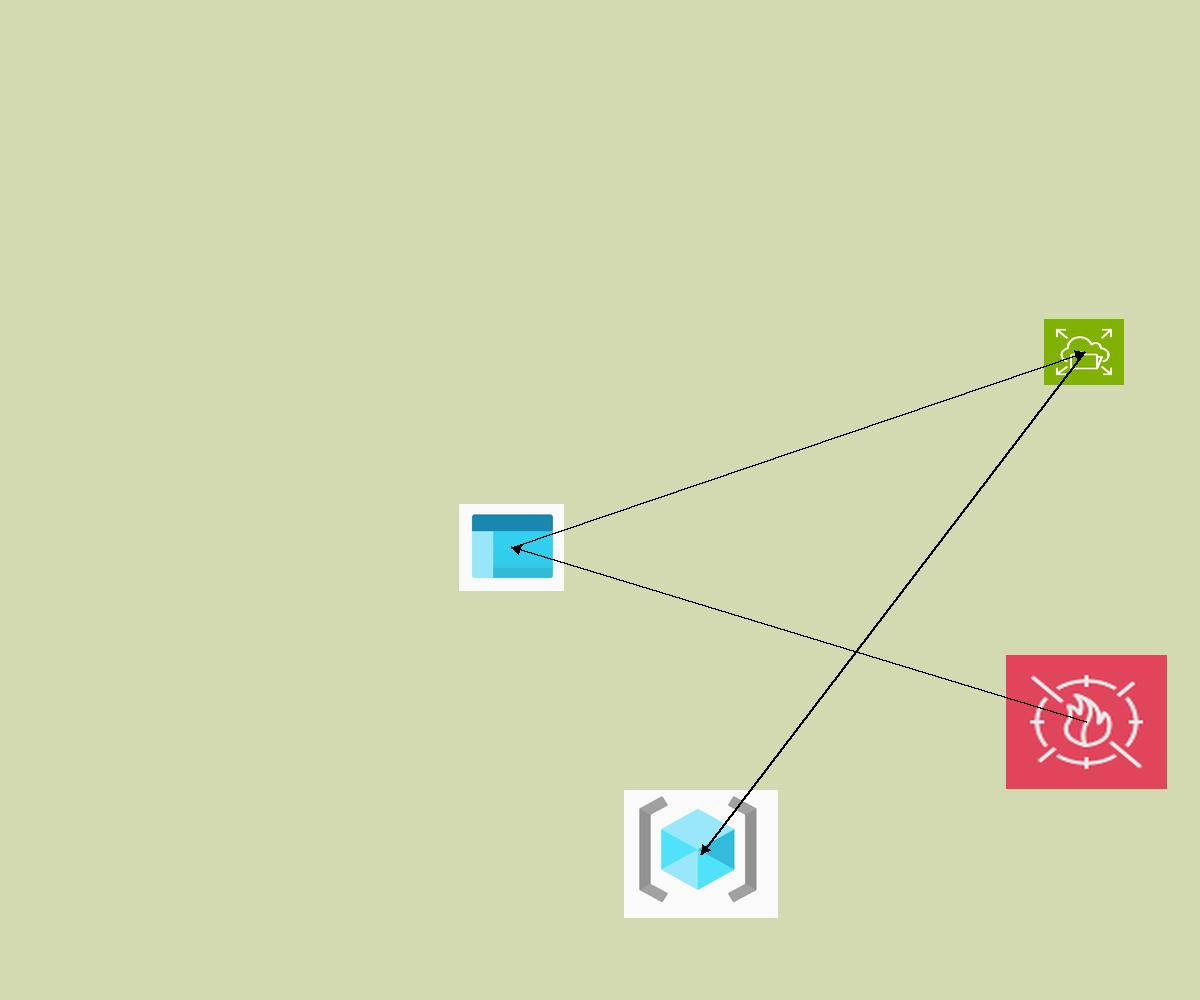AWS-EFS: (1044, 319, 1124, 385)
AWS-WAF: (1006, 655, 1167, 789)
Azure_management-portal: (459, 504, 564, 591)
Azure_resource_group: (624, 790, 778, 918)
